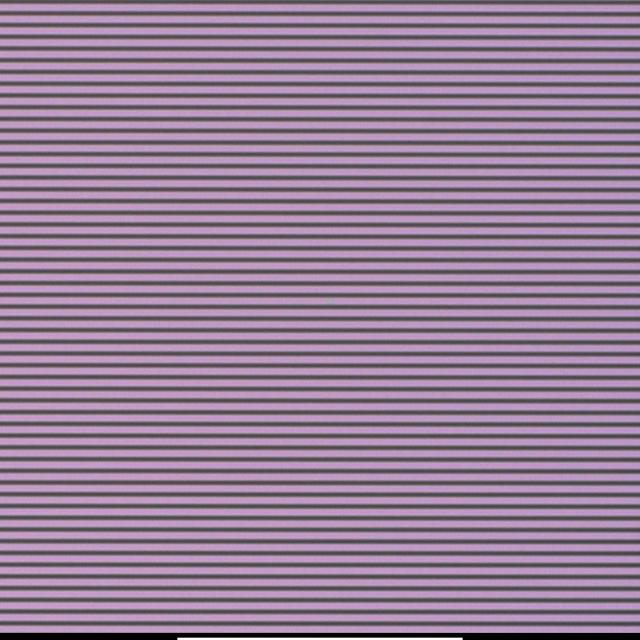nonvisual: (324, 296, 335, 308)
